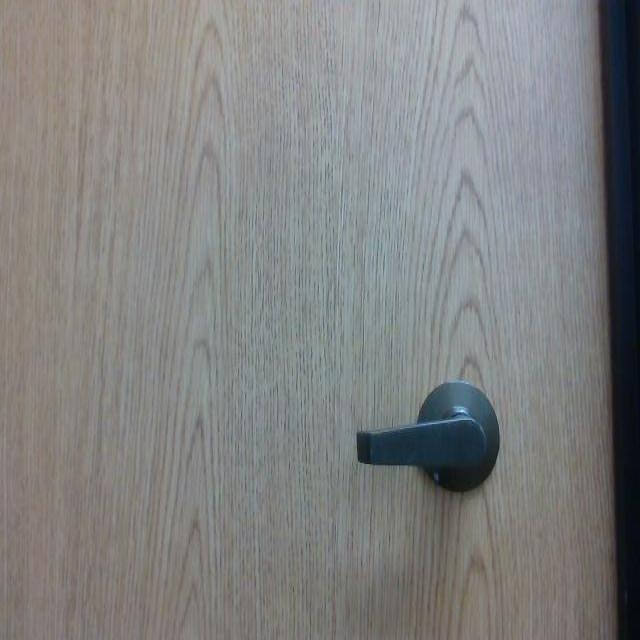doorhandle: (340, 380, 502, 492)
